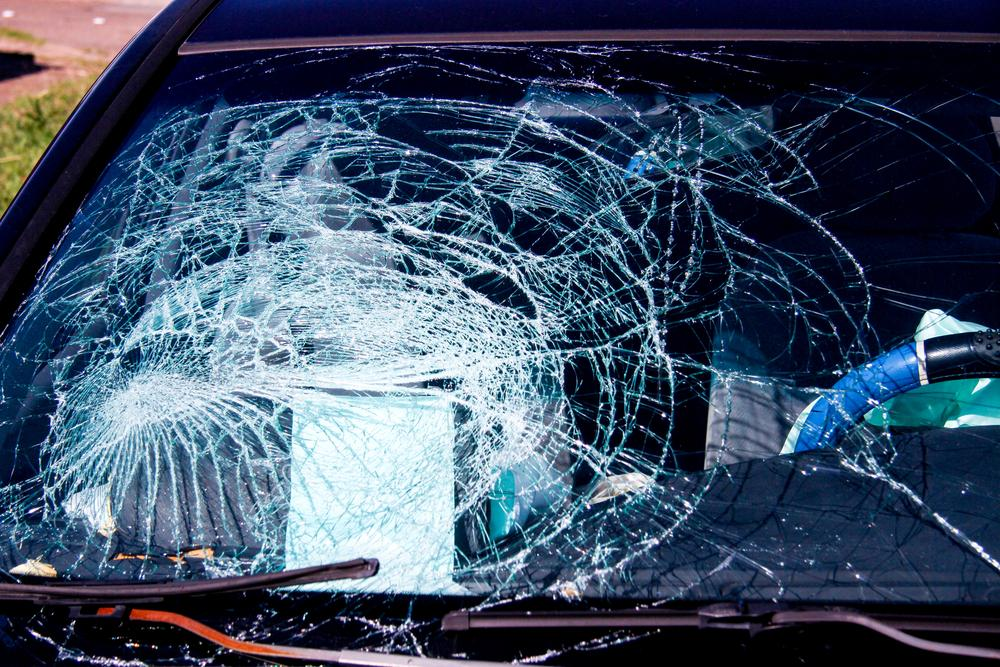glass shatter: (0, 40, 1000, 667)
